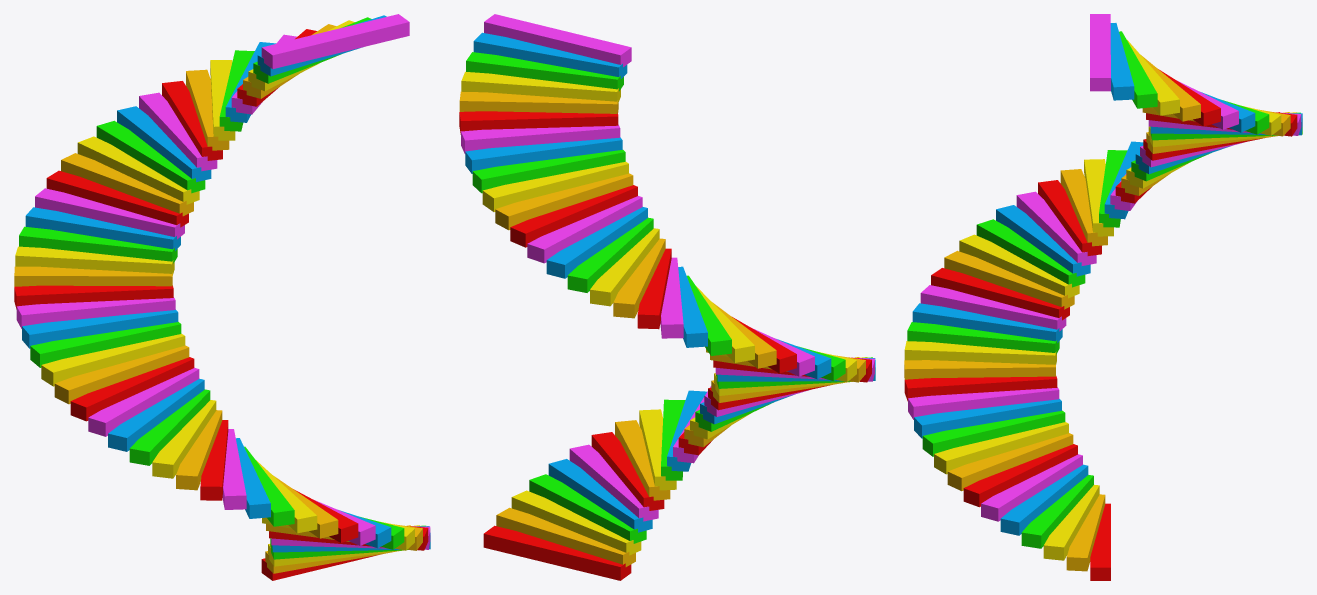
File: lestnica3.fbx
3 renders of one model, left to right at view 1: azimuth 30°, elevation 25°; view 2: azimuth 150°, elevation 25°; view 3: azimuth 270°, elevation 25°, orthographic. The views are drawn at different scales.
Visible parts, largest first — view 1: Cube.005; view 2: Cube.005; view 3: Cube.005.
Part boxes in pixels (x1,y1,x2,y2): Cube.005: (14,14,430,580); Cube.005: (459,14,875,580); Cube.005: (904,14,1302,580).
Bounding box in the file's own units: 1763 × 2456 × 1764.
